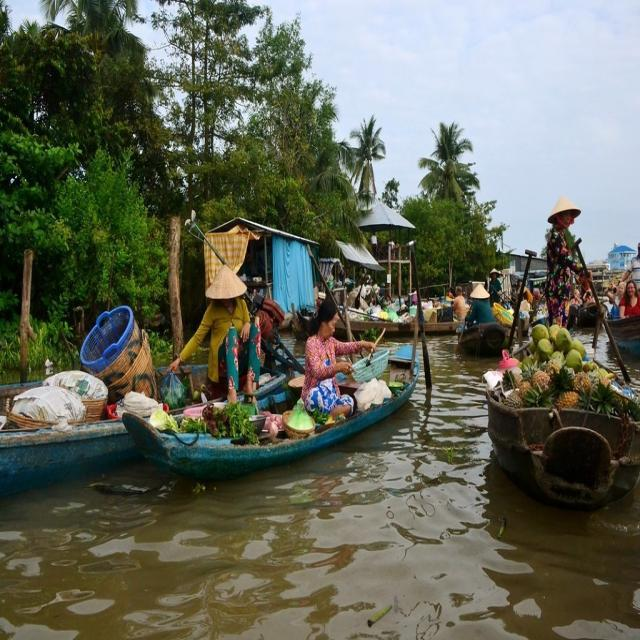boat: (126, 339, 425, 469), (489, 332, 637, 510), (449, 318, 513, 355)
